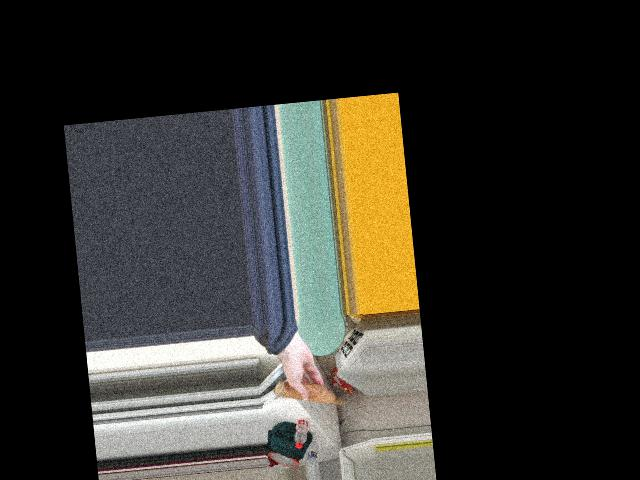sweet_potato: (277, 373, 343, 414)
